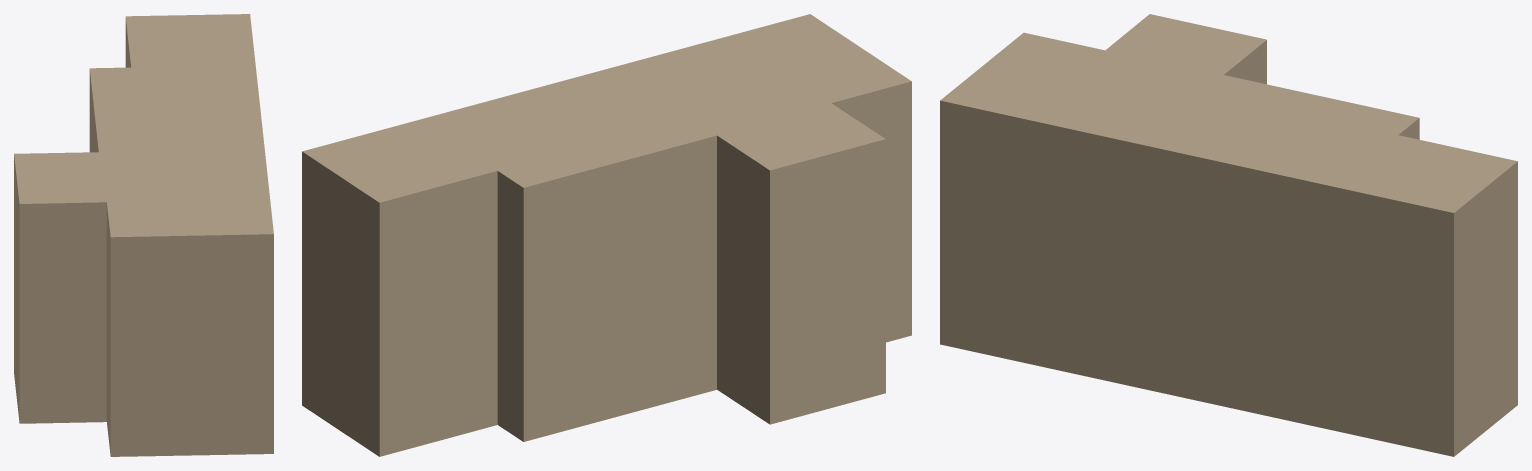
The model's file is bld_99532001.dae.
The picture shows the model from 3 angles, left to right: view 1: azimuth 30°, elevation 25°; view 2: azimuth 150°, elevation 25°; view 3: azimuth 270°, elevation 25°; orthographic projection. The views are drawn at different scales.
Visible parts, largest first — view 1: bld_99532001; view 2: bld_99532001; view 3: bld_99532001.
Part boxes in pixels (bbox=[...]): bld_99532001: bbox=[14, 14, 273, 456]; bld_99532001: bbox=[302, 14, 911, 456]; bld_99532001: bbox=[940, 14, 1517, 456].
Size of the model in its own units: 14.01 by 17.18 by 8.
